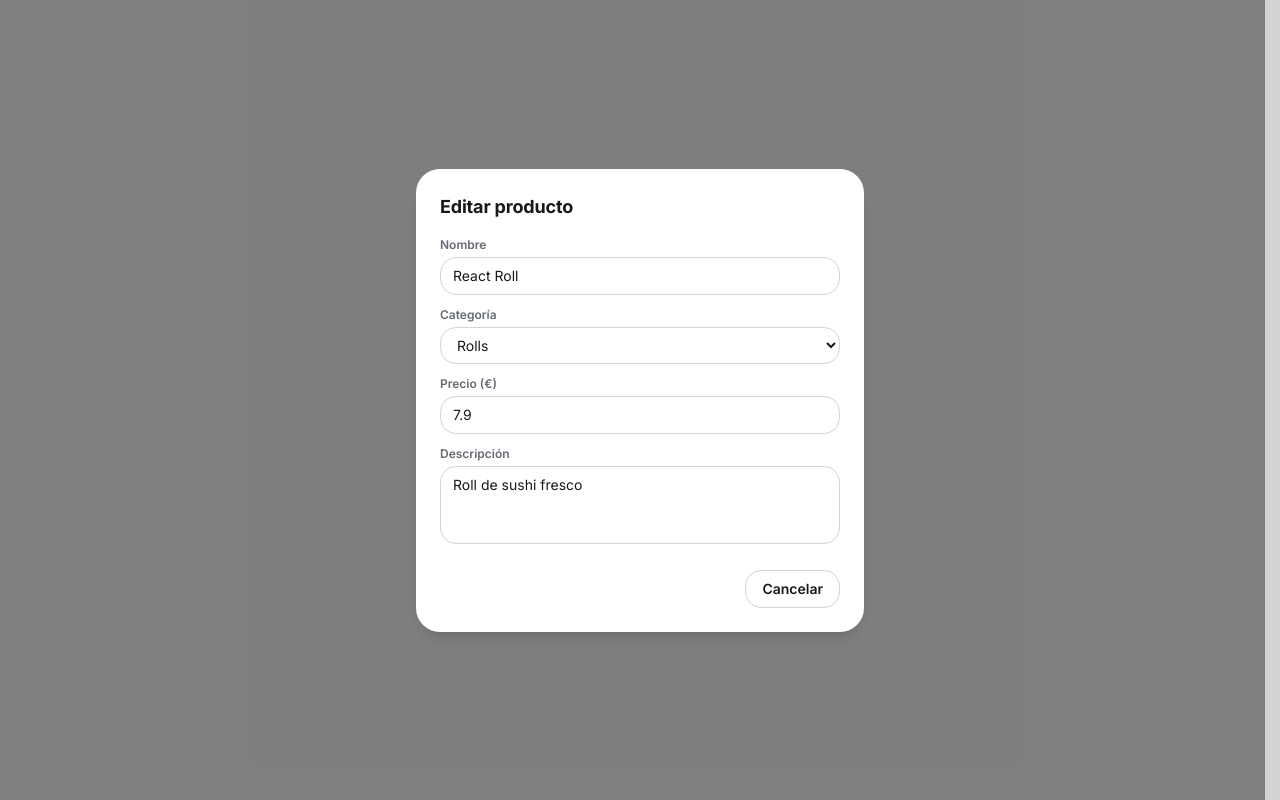
ProductFormModal › edit mode › only shows the save button after changing something
The image size is (1280, 800).
Replace the text in the number field labelled "Precio (€)" with "8.50" at [640, 414], box [440, 396, 840, 434]
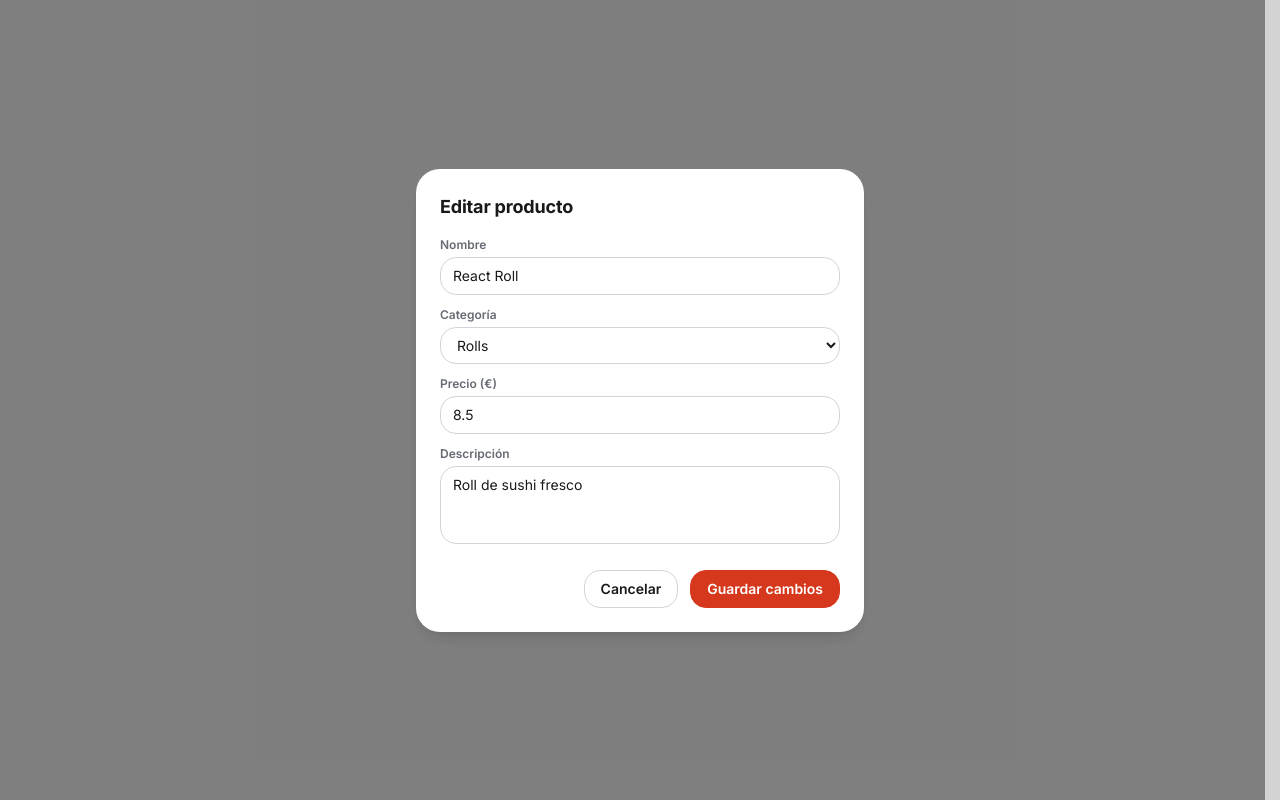
Expected: the submit button reads "Guardar cambios", [690, 570, 840, 608]
